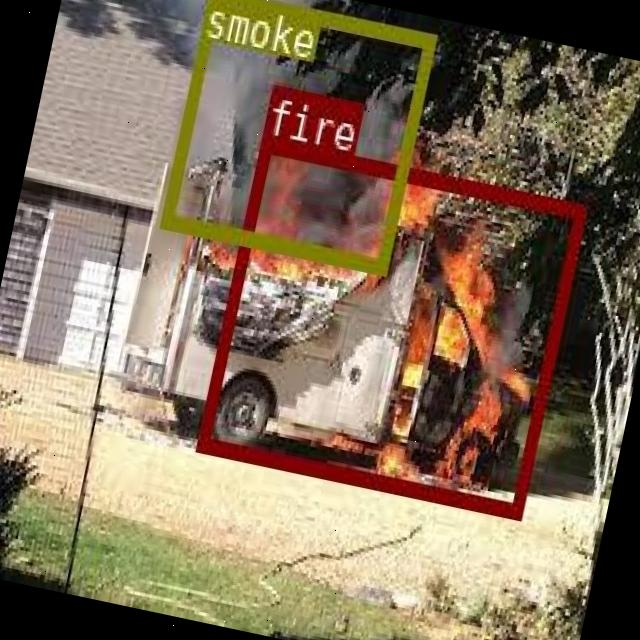fire: (193, 134, 584, 516)
smoke: (158, 0, 433, 270)
